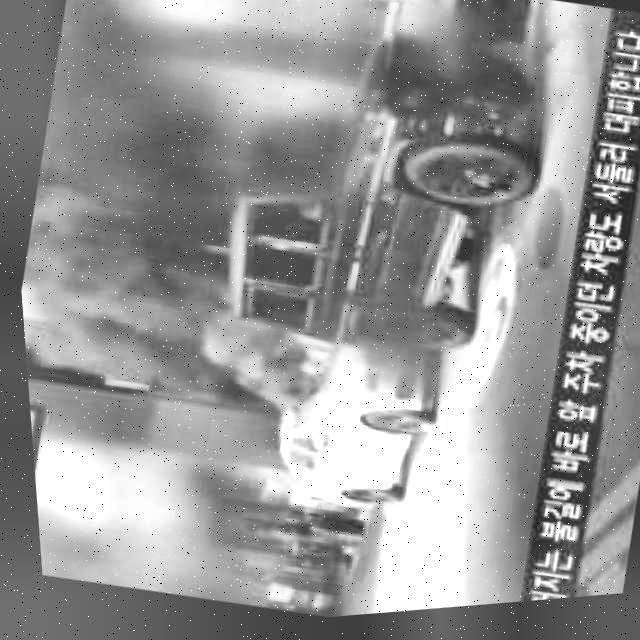Fire: (187, 313, 327, 408)
Smoke: (10, 151, 226, 425)
